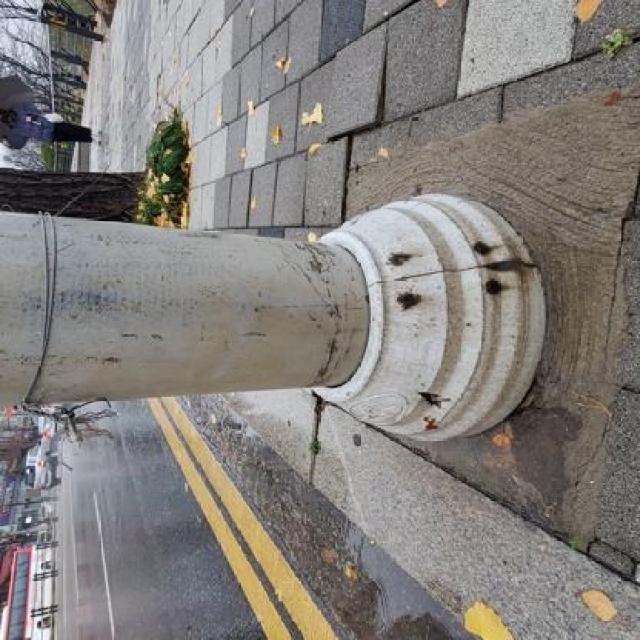pole: (0, 178, 557, 454)
